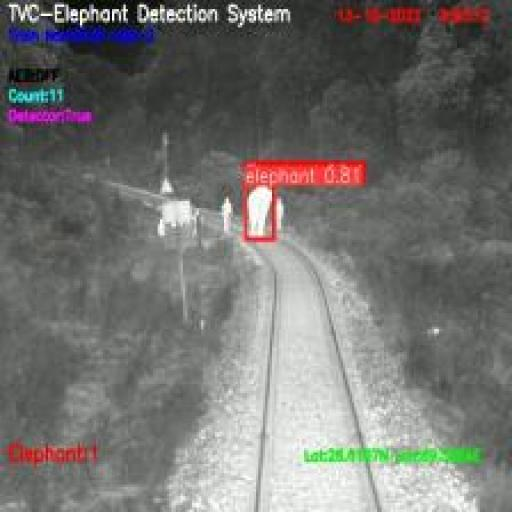Elephant: (245, 185, 274, 241)
